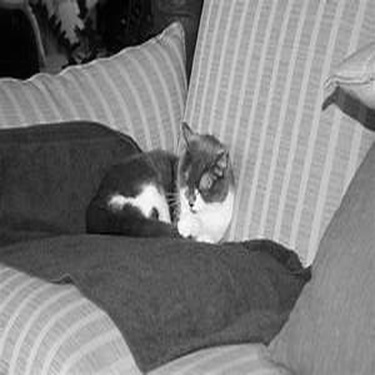cat: (87, 119, 237, 245)
